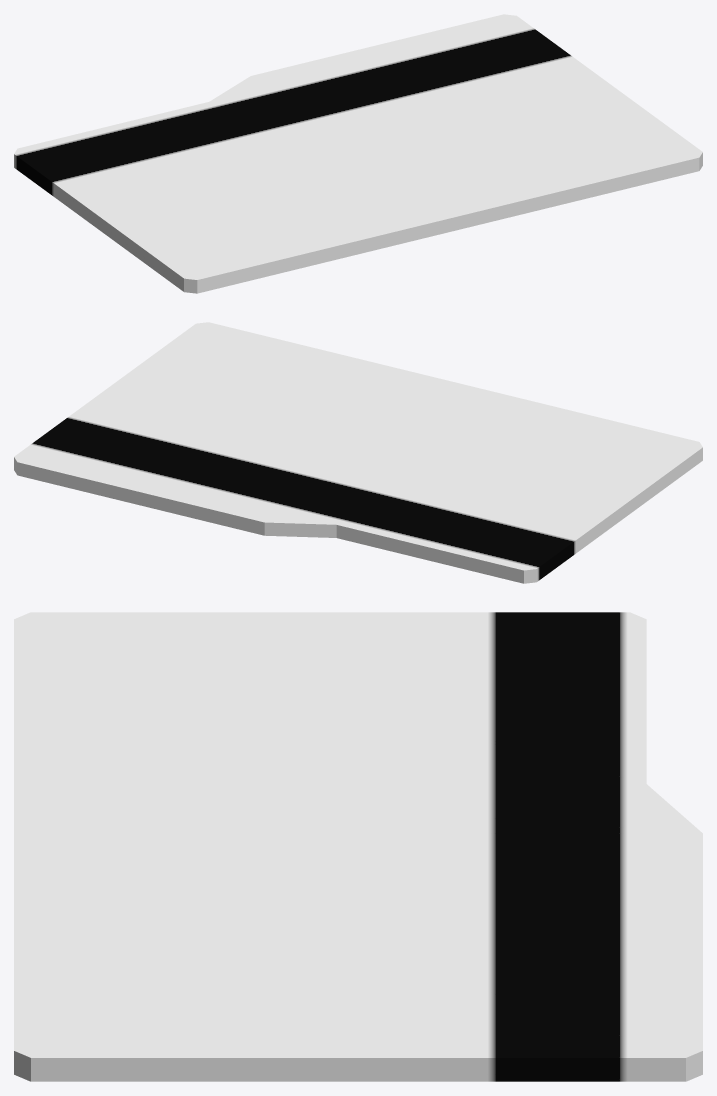
The model's file is Keycard.fbx.
3 renders of one model, top to bottom at view 1: azimuth 30°, elevation 25°; view 2: azimuth 150°, elevation 25°; view 3: azimuth 270°, elevation 25°, orthographic. The views are drawn at different scales.
Visible parts, largest first — view 1: Keycard; view 2: Keycard; view 3: Keycard.
Boxes of the visible parts, bbox=[...] form: Keycard: bbox=[14, 14, 702, 293]; Keycard: bbox=[14, 322, 702, 583]; Keycard: bbox=[14, 612, 702, 1081].
Size of the model in its own units: 20 by 0.5 by 13.07.
1 material, 1 textured.
